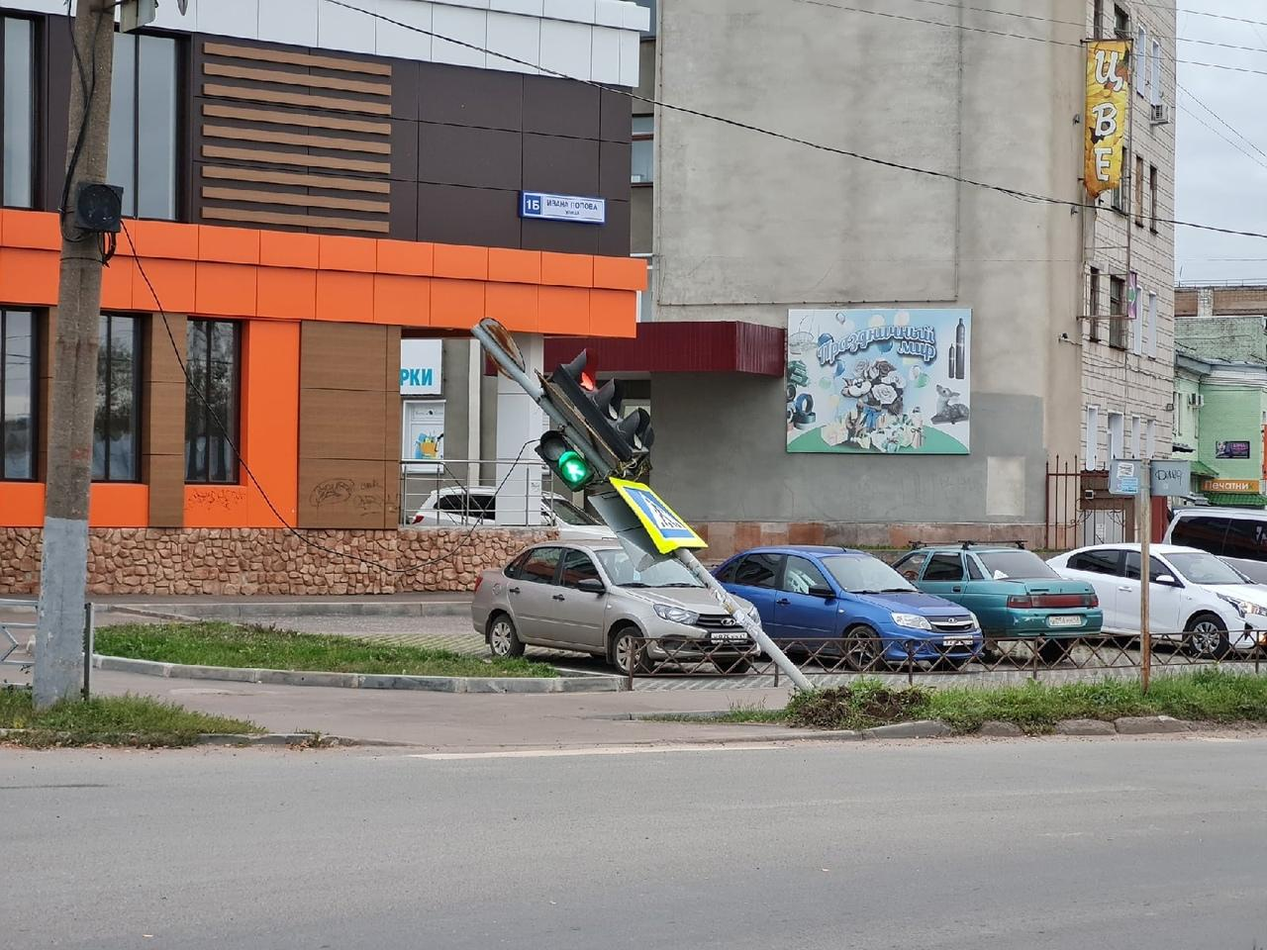obstructed_road_sign: (611, 477, 708, 554)
traffic light: (552, 348, 654, 461), (532, 430, 597, 490)
